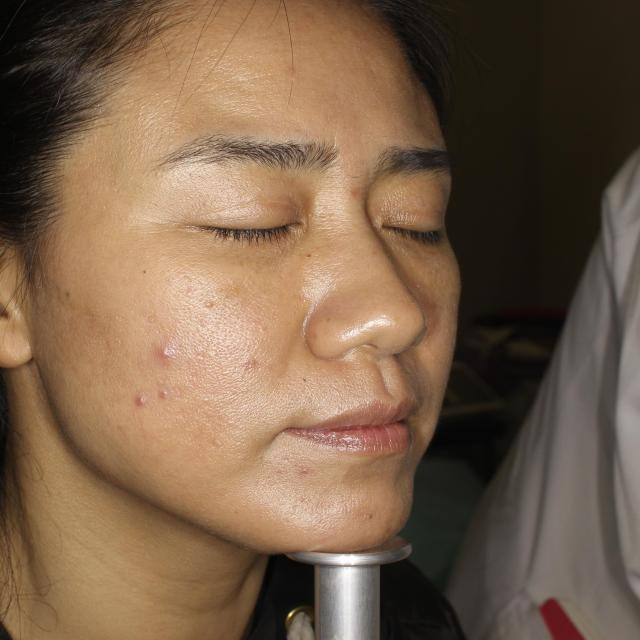acne: (152, 342, 179, 362), (150, 386, 177, 401), (133, 387, 147, 411)
